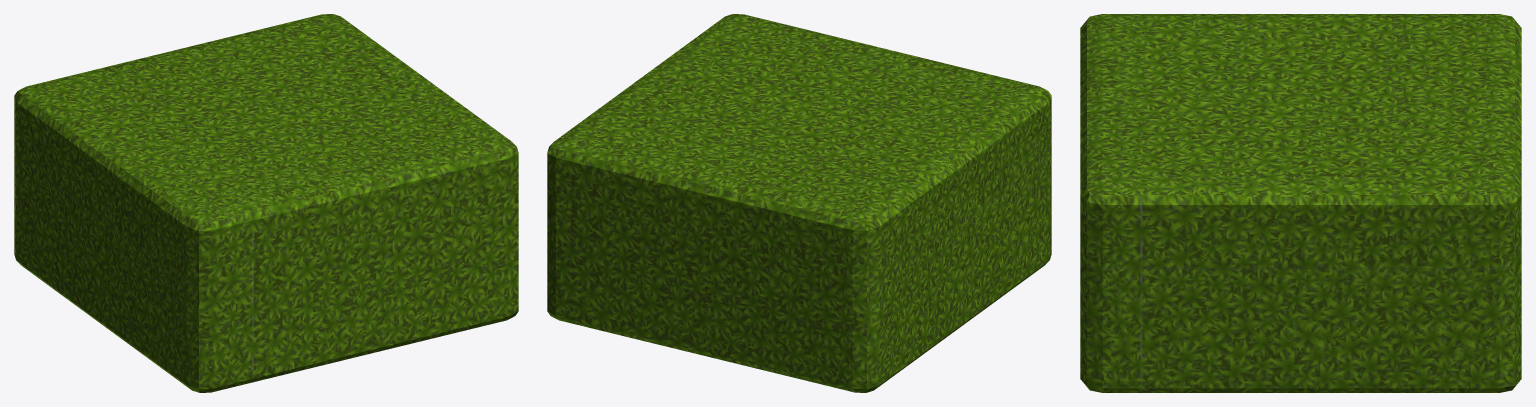
Rendered from button.fbx.
3 renders of one model, left to right at view 1: azimuth 30°, elevation 25°; view 2: azimuth 150°, elevation 25°; view 3: azimuth 270°, elevation 25°, orthographic. The views are drawn at different scales.
Parts seen in each view (by area): view 1: Cube.001; view 2: Cube.001; view 3: Cube.001.
Part boxes in pixels (<box>): Cube.001: <box>14,14,518,392</box>; Cube.001: <box>547,14,1051,392</box>; Cube.001: <box>1080,14,1521,392</box>.
Size of the model in its own units: 128 by 65.25 by 128.
